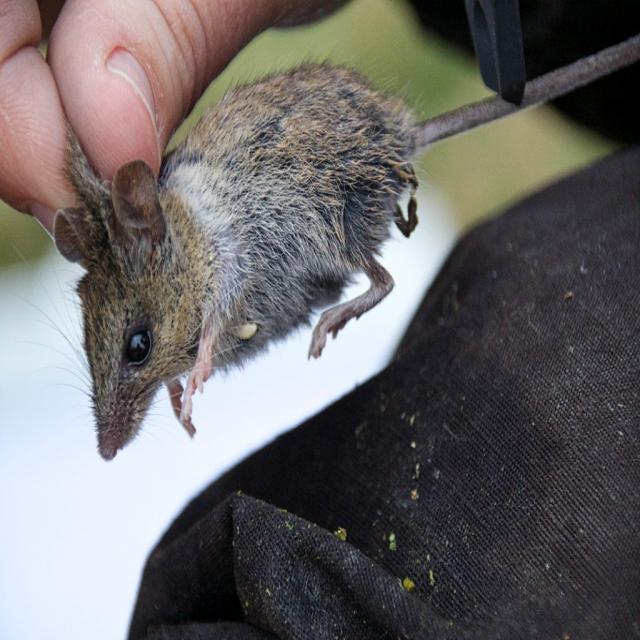rat: (13, 33, 640, 459)
